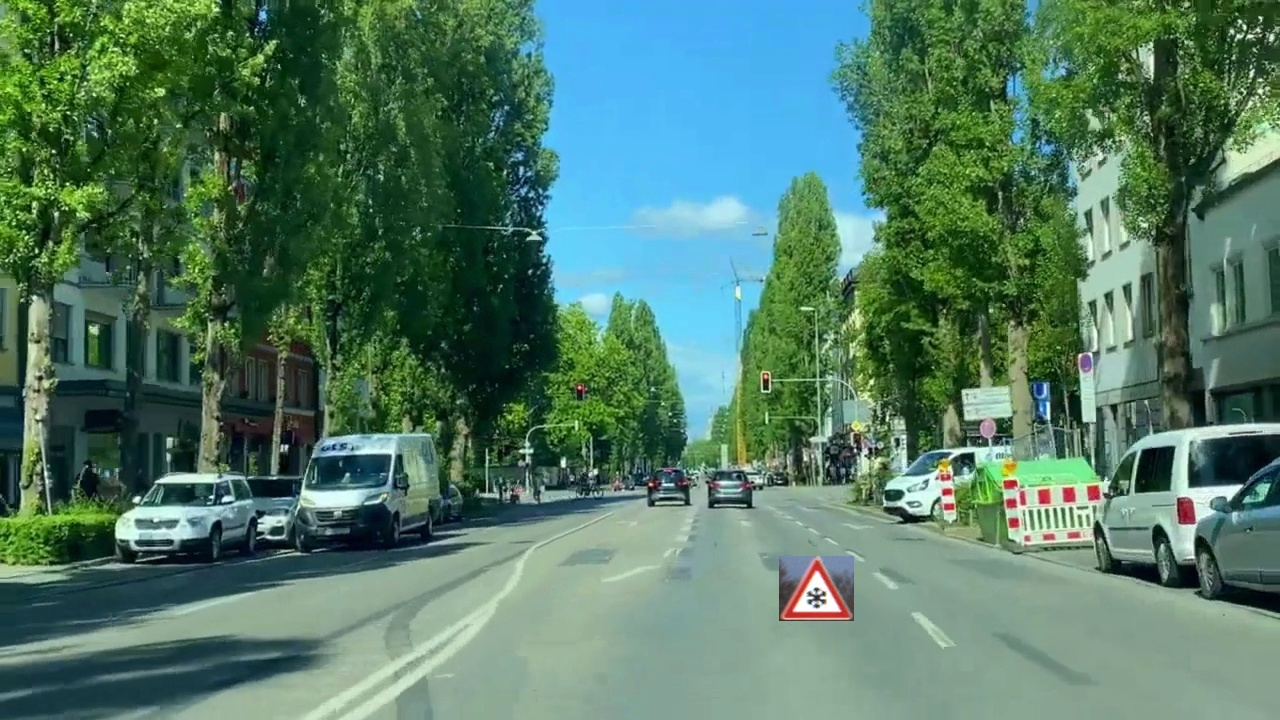Ice/snow: (779, 556, 854, 621)
